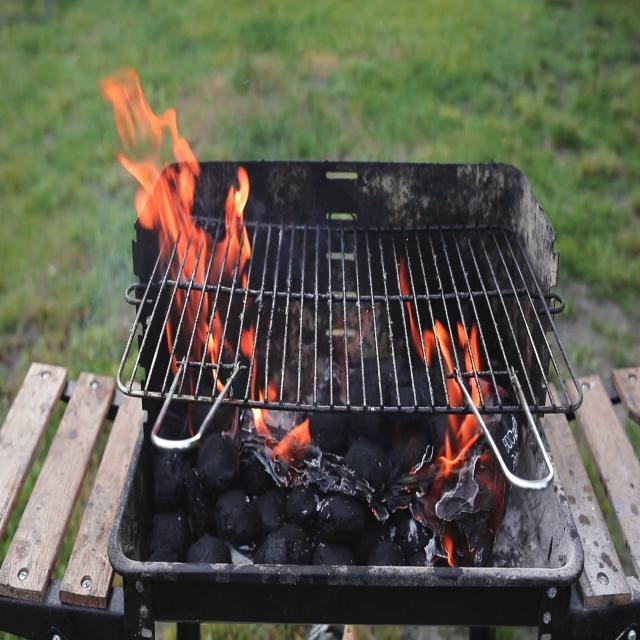Fire: (101, 42, 271, 436), (400, 297, 502, 478)
